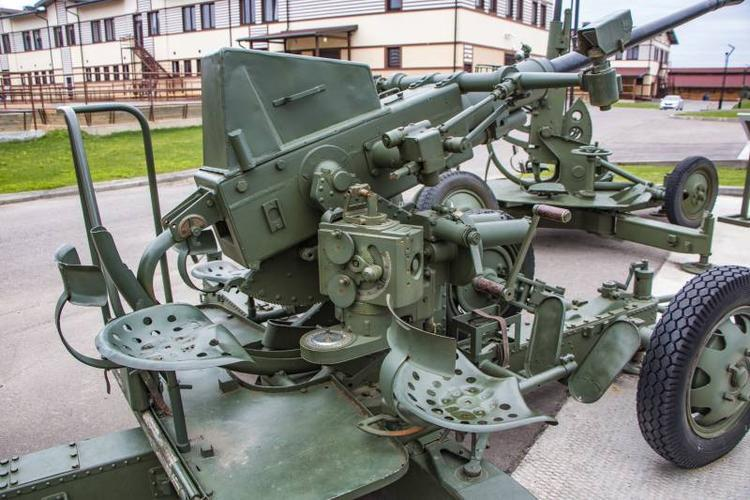MIL_SPG: (1, 0, 750, 500)
